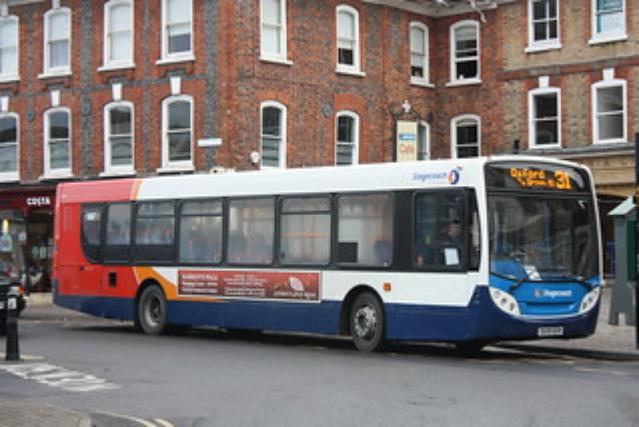bus: (52, 154, 600, 353)
